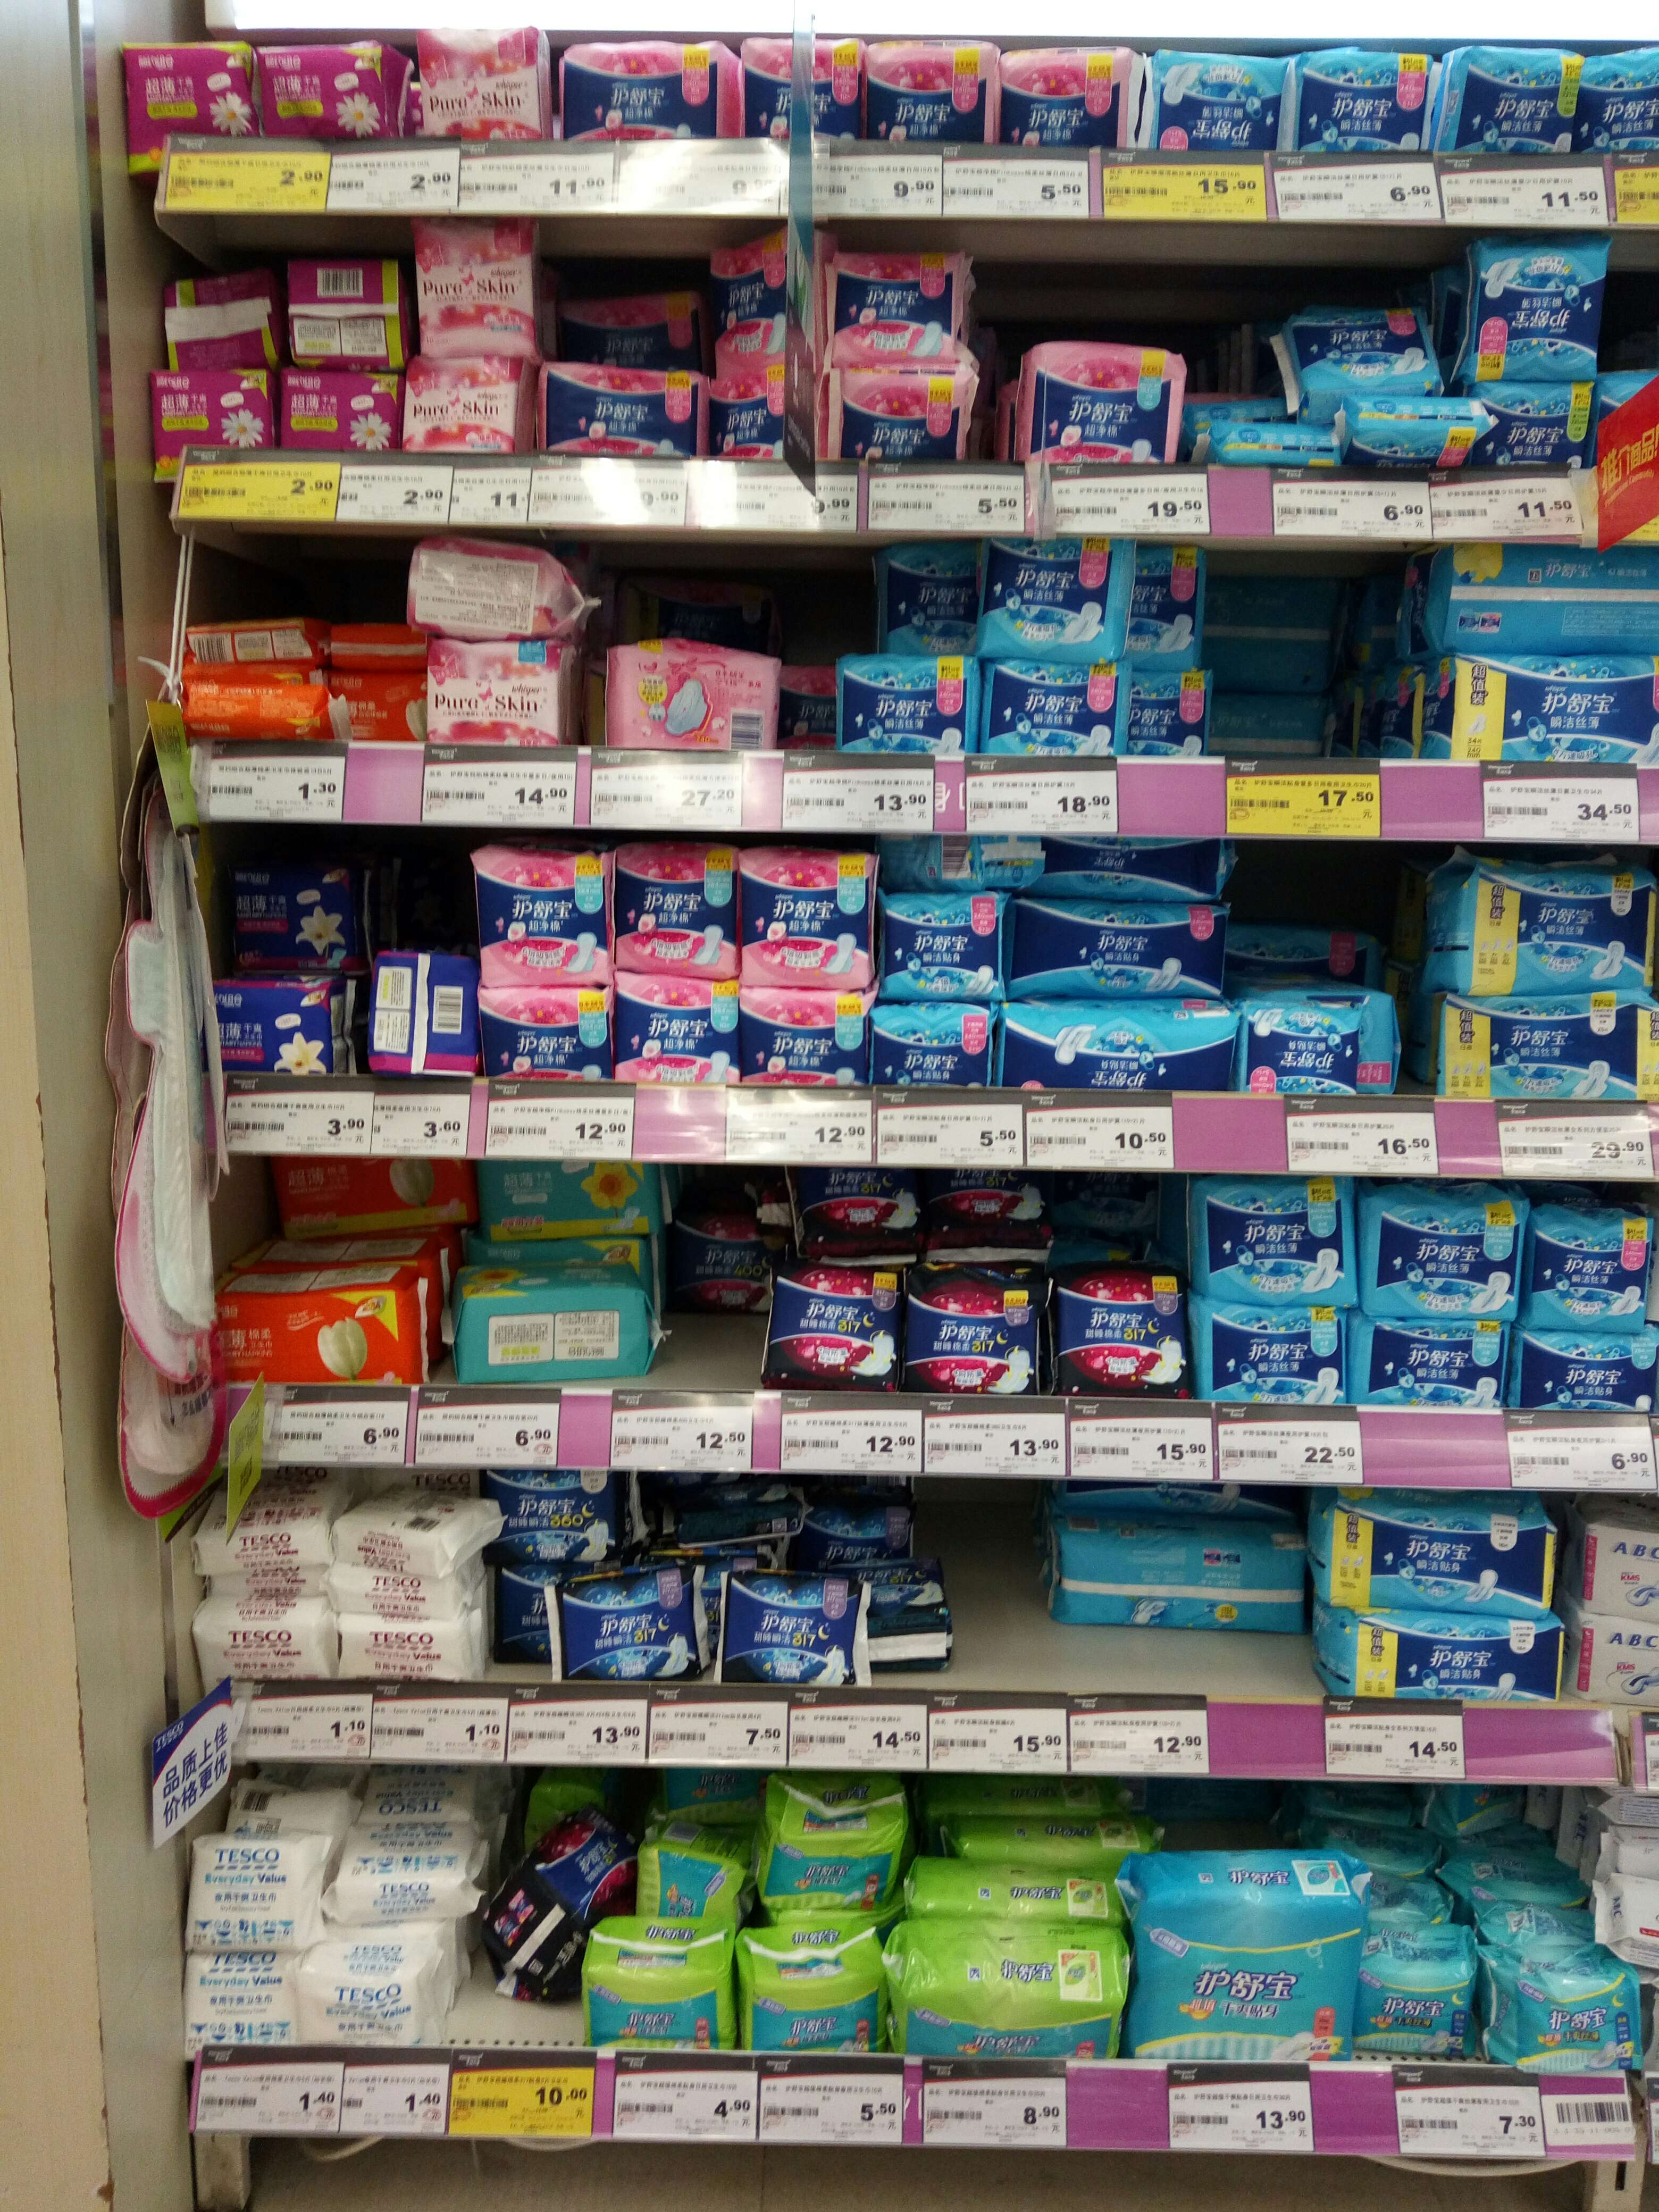Misplacement: (1044, 1482, 1338, 1705)
